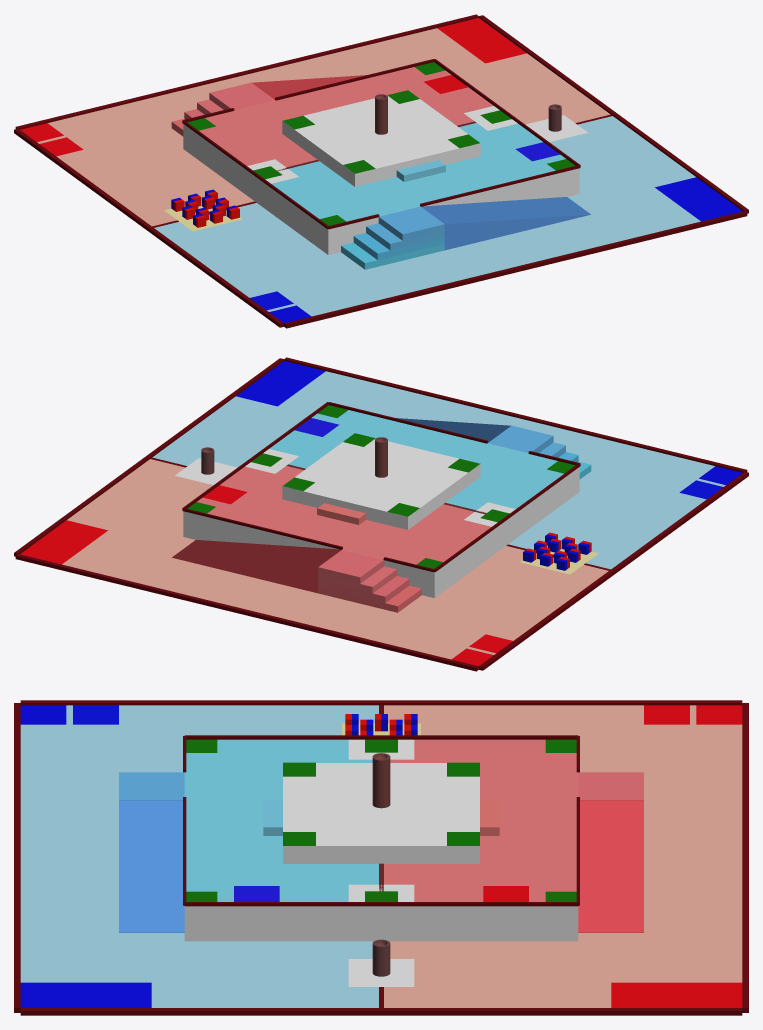
3 views of the same model, one above another, from view 1: azimuth 30°, elevation 25°; view 2: azimuth 150°, elevation 25°; view 3: azimuth 270°, elevation 25° (orthographic). The views are drawn at different scales.
Parts seen in each view (by area): view 1: Ground_Blue, Ground_Red, Plane.001, Cube.017, Plane, Cube, Cube.006, Boundary_Wall_Right, Boundary_Wall_Front, Boundary_Wall_Left, Storage_Red, Storage_Blue (+15 smaller); view 2: Ground_Red, Ground_Blue, Plane, Cube.017, Plane.001, Cube, Cube.001, Boundary_Wall_Left, Boundary_Wall_Front, Boundary_Wall_Right, Storage_Blue, Storage_Red (+15 smaller); view 3: Ground_Red, Ground_Blue, Plane, Plane.001, Cube.017, Cube, Cube.001, Cube.006, Boundary_Wall_Back, Boundary_Wall_Front, Storage_Blue, Storage_Red (+19 smaller).
Part boxes in pixels (x1,y1,x2,y2): Ground_Blue: (154, 116, 700, 316); Ground_Red: (37, 28, 610, 226); Plane.001: (271, 123, 565, 221); Cube.017: (282, 95, 480, 186); Plane: (199, 67, 493, 167); Cube: (183, 124, 579, 254); Cube.006: (421, 197, 590, 250); Boundary_Wall_Right: (284, 211, 747, 328); Boundary_Wall_Front: (14, 128, 283, 327); Boundary_Wall_Left: (15, 14, 478, 129); Storage_Red: (437, 18, 526, 63); Storage_Blue: (655, 177, 742, 221); Ground_Red: (62, 459, 608, 659); Ground_Blue: (152, 371, 725, 569); Plane: (197, 466, 491, 564); Cube.017: (282, 438, 480, 529); Plane.001: (269, 410, 563, 510); Cube: (183, 467, 579, 597); Cube.001: (172, 540, 341, 593); Boundary_Wall_Left: (15, 554, 478, 671); Boundary_Wall_Front: (479, 471, 748, 670); Boundary_Wall_Right: (284, 357, 747, 472); Storage_Blue: (236, 361, 325, 406); Storage_Red: (20, 520, 107, 564); Ground_Red: (384, 705, 742, 1007); Ground_Blue: (20, 705, 378, 1007); Plane: (384, 739, 578, 901); Plane.001: (184, 739, 378, 901); Cube.017: (283, 763, 479, 863); Cube: (184, 906, 578, 941); Cube.001: (578, 800, 643, 932); Cube.006: (119, 800, 184, 932); Boundary_Wall_Back: (20, 1008, 742, 1015); Boundary_Wall_Front: (20, 700, 742, 705); Storage_Blue: (20, 982, 151, 1007); Storage_Red: (611, 982, 742, 1007).
Bounding box in the file's own units: 11.2 × 11.2 × 1.74.
